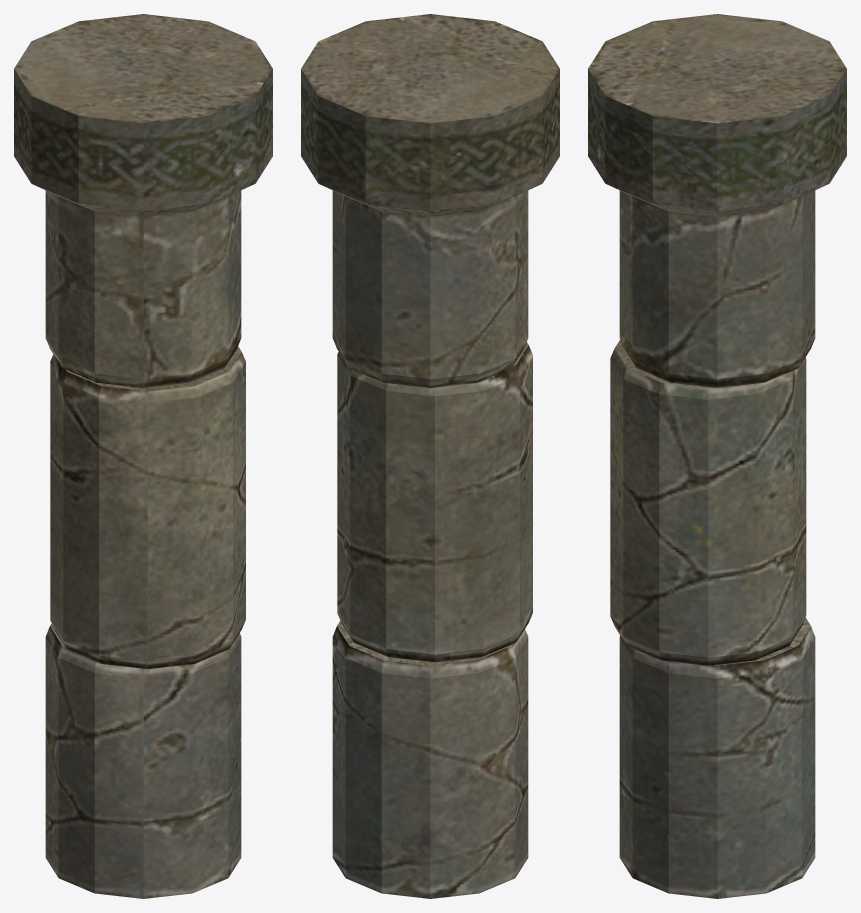
Rendered from bg_lut_lutomb_pillar09a_sm_old.FBX.
The picture shows the model from 3 angles, left to right: view 1: azimuth 30°, elevation 25°; view 2: azimuth 150°, elevation 25°; view 3: azimuth 270°, elevation 25°; orthographic projection.
Visible parts, largest first — view 1: bg_lut_lutomb_pillar09a_sm_old; view 2: bg_lut_lutomb_pillar09a_sm_old; view 3: bg_lut_lutomb_pillar09a_sm_old.
Part boxes in pixels (left/top/right/bottom): bg_lut_lutomb_pillar09a_sm_old: left=14, top=14, right=272, bottom=898; bg_lut_lutomb_pillar09a_sm_old: left=301, top=14, right=559, bottom=898; bg_lut_lutomb_pillar09a_sm_old: left=588, top=14, right=846, bottom=898.
Size of the model in its own units: 42.83 by 144 by 42.83.
